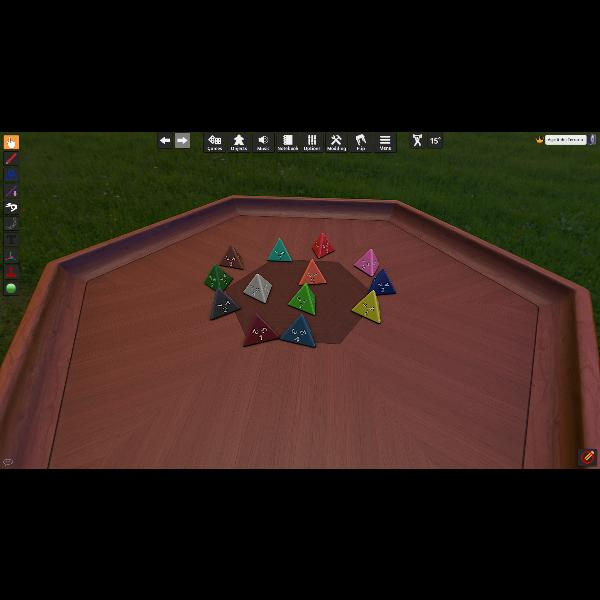d4: (244, 314, 280, 346), (280, 314, 315, 346), (210, 286, 241, 320), (352, 290, 382, 322), (288, 282, 316, 314), (244, 273, 272, 303), (204, 263, 232, 291), (354, 248, 380, 276), (369, 268, 396, 294), (299, 259, 326, 285), (266, 238, 292, 262), (220, 245, 244, 270), (312, 232, 334, 258)
